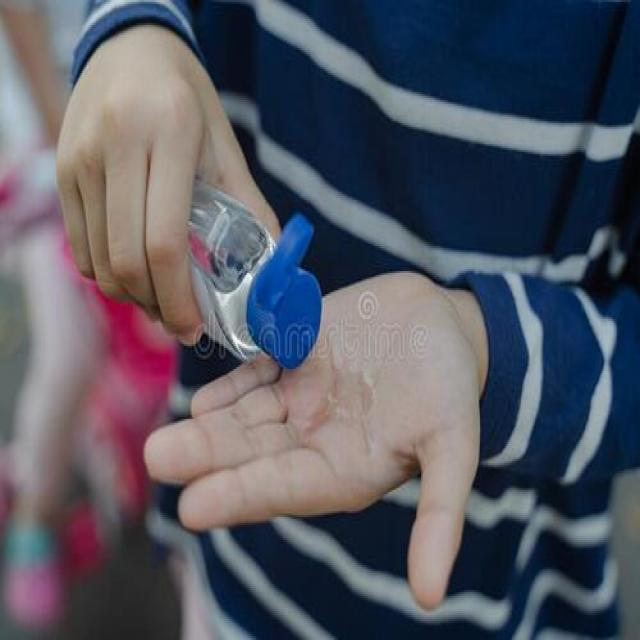sanitizer: (190, 167, 322, 371)
